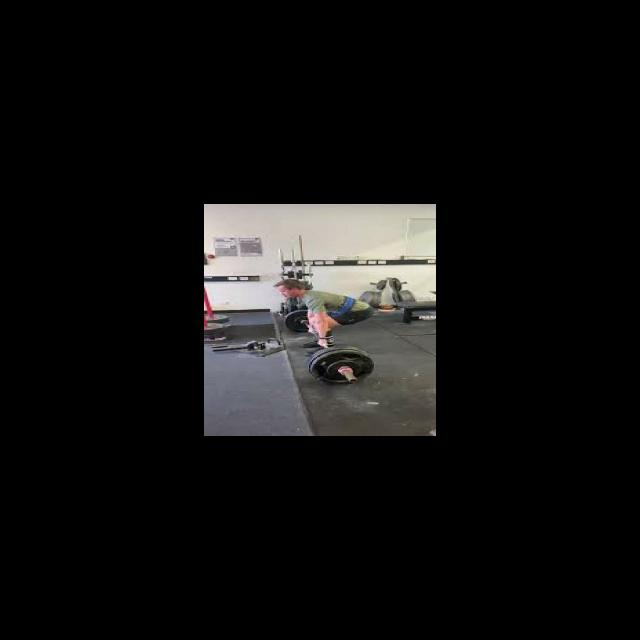barbell: (309, 348, 375, 385)
